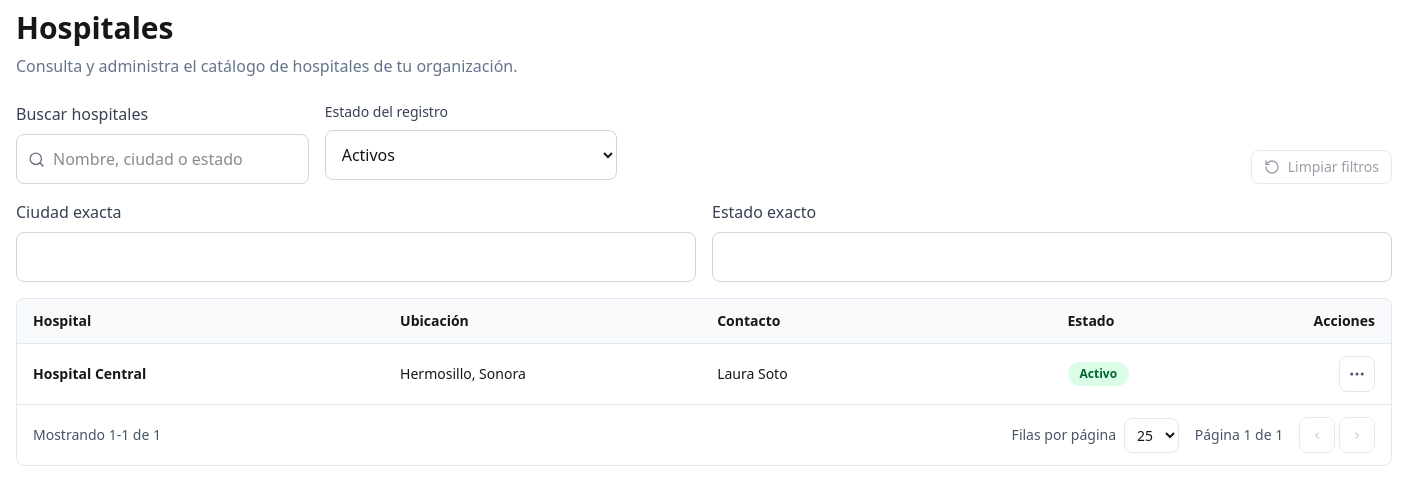
it: HospitalsPage › mantiene WAREHOUSE read-only con acceso a detalle
Check: the text "Hospital Central" is shown, box [33,364,146,383]
Click the button named "Acciones del hospital Hospital Central" at (1357, 374), box [1339,356,1375,392]
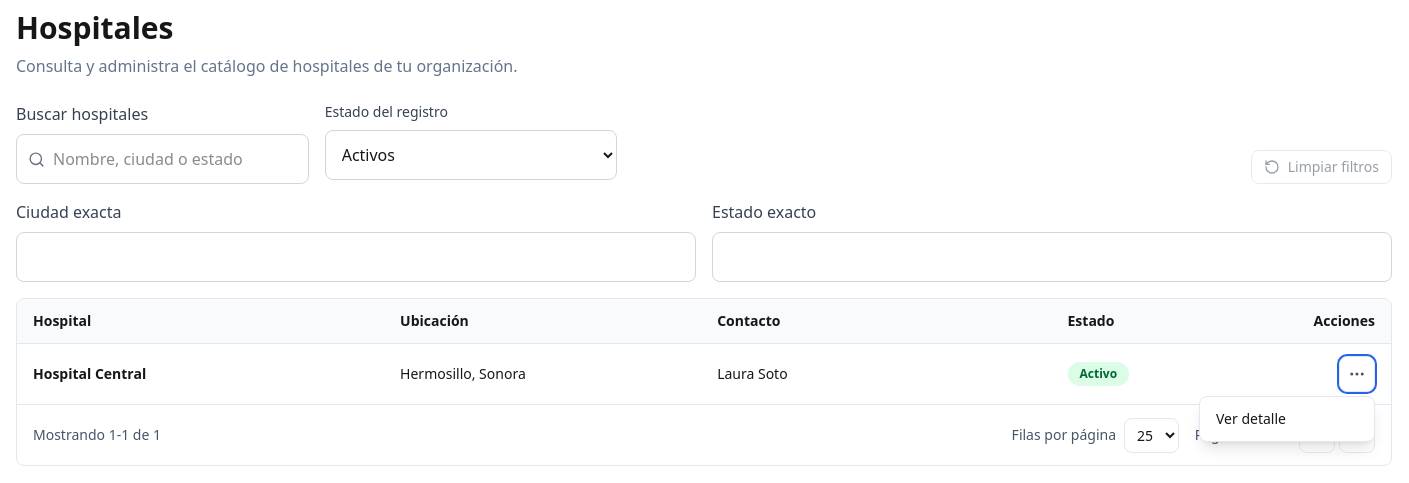
Check: the menu item "Ver detalle" is shown, box [1204,401,1370,437]
